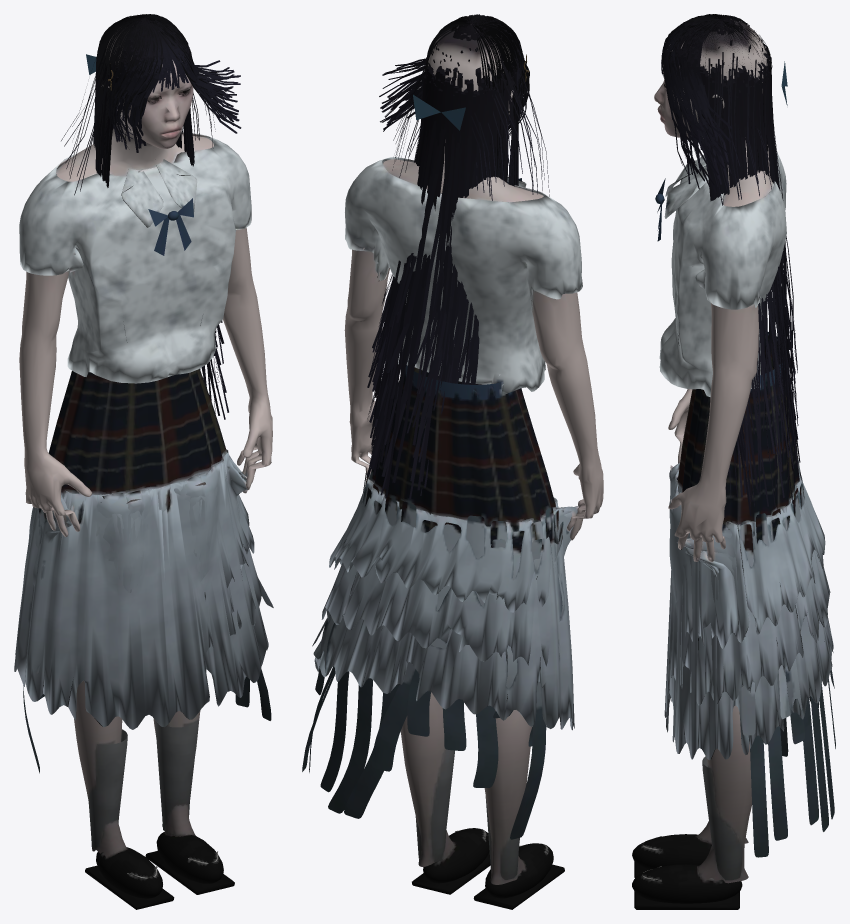
File: music.glb
3 views of the same model, side by side, from view 1: azimuth 30°, elevation 25°; view 2: azimuth 150°, elevation 25°; view 3: azimuth 270°, elevation 25° (orthographic). The views are drawn at different scales.
Parts seen in each view (by area): view 1: GhostBody, GhostHair; view 2: GhostBody, GhostHair; view 3: GhostBody, GhostHair.
Part boxes in pixels (left/top/right/bottom): GhostBody: left=14, top=25, right=273, bottom=909; GhostHair: left=61, top=14, right=241, bottom=419; GhostBody: left=302, top=24, right=603, bottom=909; GhostHair: left=366, top=14, right=549, bottom=498; GhostBody: left=632, top=18, right=835, bottom=909; GhostHair: left=661, top=14, right=800, bottom=515.
Size of the model in its own units: 0.5589 by 1.72 by 0.3655.
2 materials, 1 textured.
